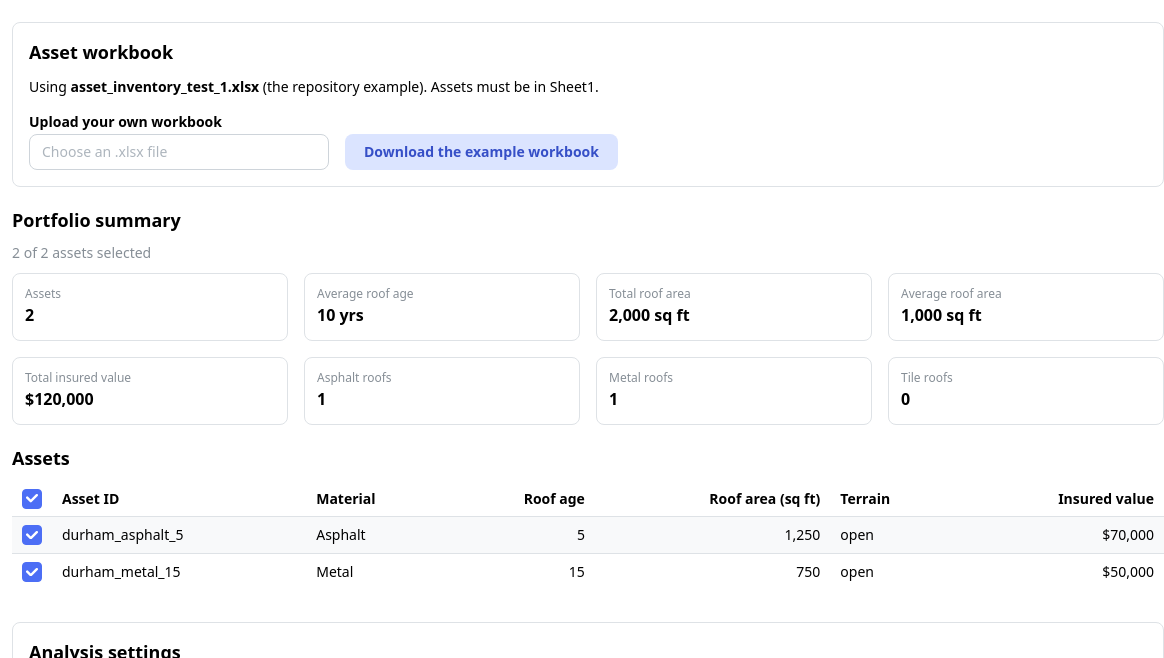
PortfolioPage › won't run with no assets checked
Click the checkbox named "Include all assets" at (32, 499), box [22, 489, 42, 509]
(page scrolled)
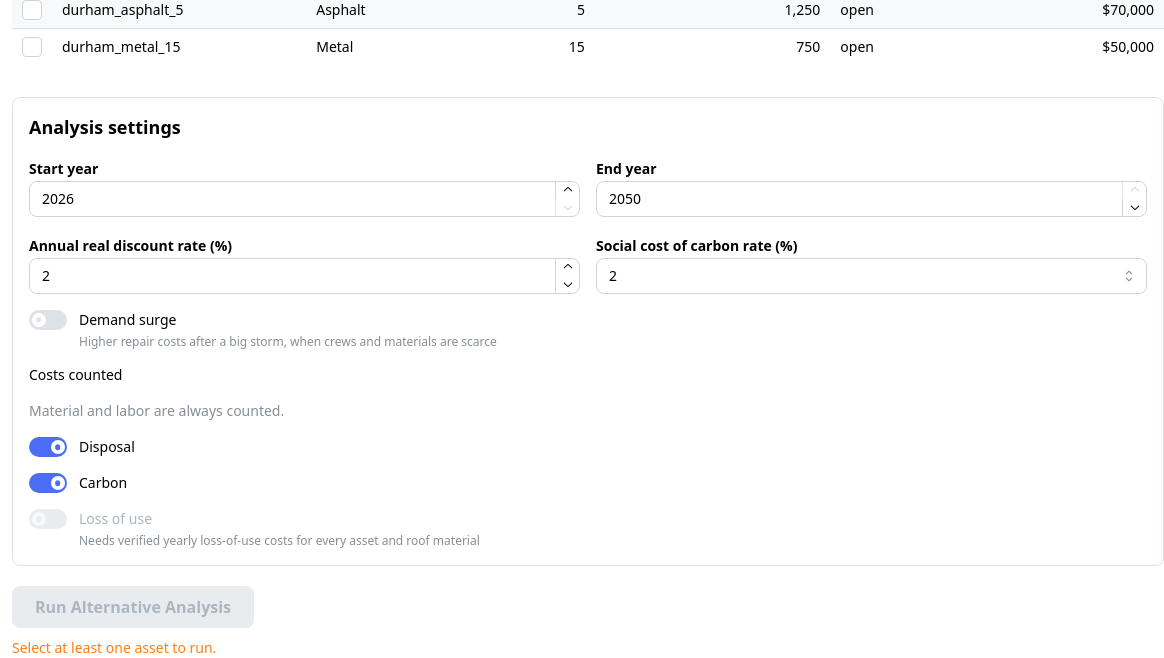
Expected: the button "Run Alternative Analysis" is disabled, [12, 586, 254, 628]
Expected: the text "Select at least one asset to run." is shown, [12, 638, 216, 657]
